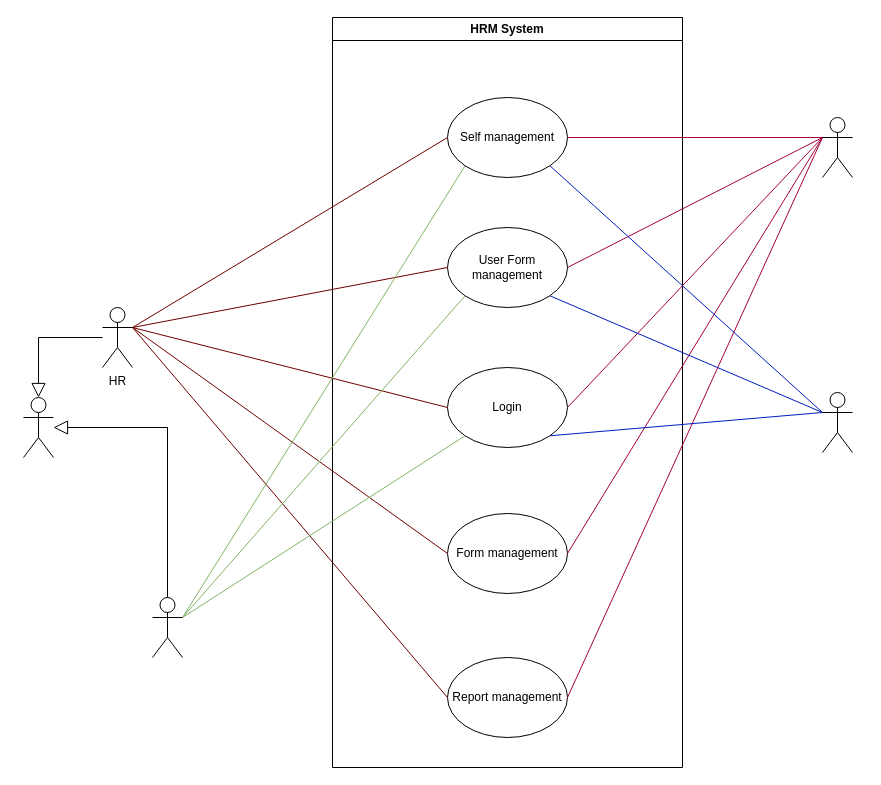
The diagram is 881 pixels wide and 785 high, and some of its shapes have lost their labels. Each missing label, with the centre of its shape:
Admin: the point at 837,147
Director: the point at 38,427
Employee: the point at 837,422
Manager: the point at 167,627
